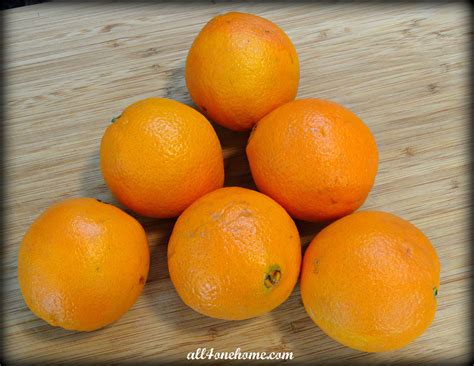orange: (296, 209, 444, 353), (165, 183, 305, 326), (14, 195, 153, 328), (244, 97, 383, 222), (98, 95, 227, 214), (182, 9, 306, 131)
